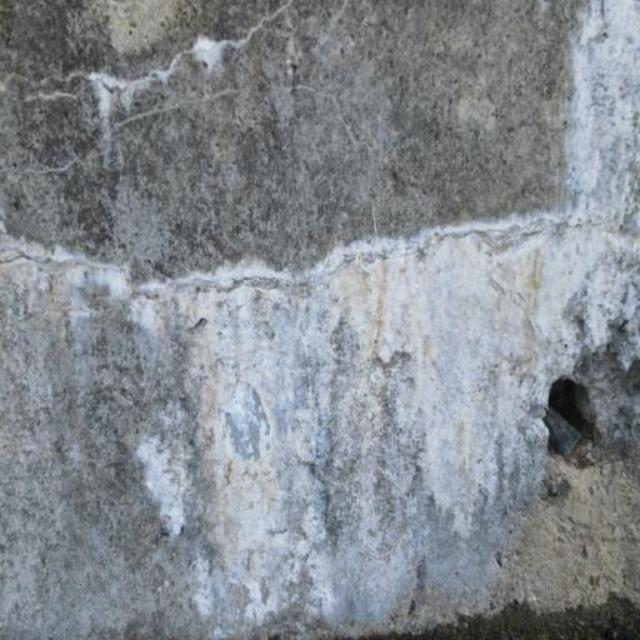D01: (22, 82, 639, 609), (146, 2, 639, 601), (6, 218, 637, 616), (138, 438, 184, 537)
